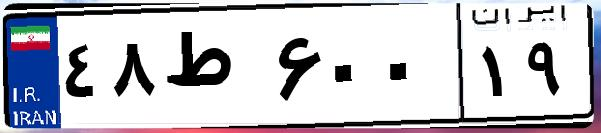0: (385, 28, 445, 110), (330, 28, 385, 110)
1: (475, 38, 525, 113)
4: (57, 26, 110, 100)
6: (270, 28, 330, 110)
8: (110, 28, 158, 98)
9: (525, 38, 570, 115)
ط: (158, 20, 270, 120)
